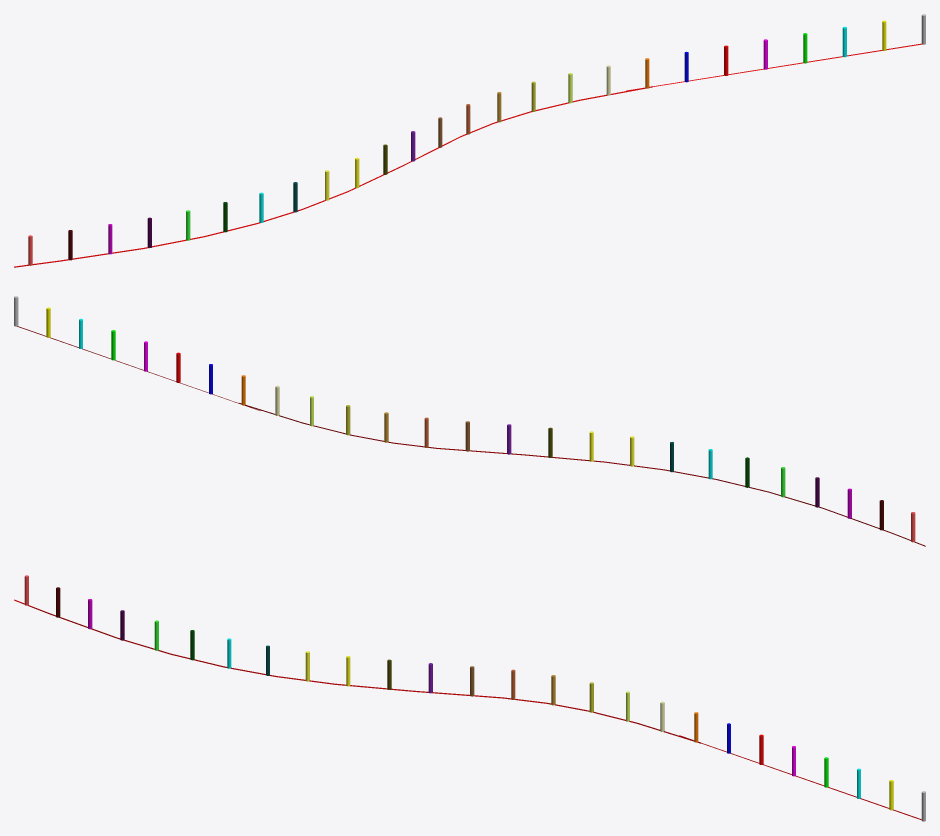
File: pertagas.glb
The picture shows the model from 3 angles, top to bottom: view 1: azimuth 30°, elevation 25°; view 2: azimuth 150°, elevation 25°; view 3: azimuth 330°, elevation 25°; orthographic projection.
Size of the model in its own units: 499 by 15.3 by 45.77.
